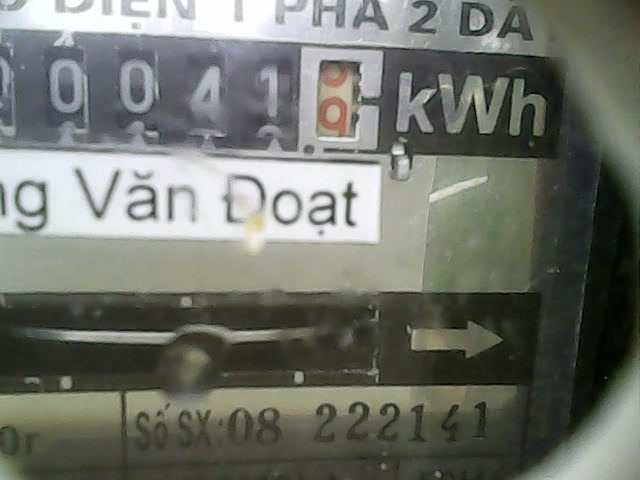phy_plate: (1, 31, 393, 167)
